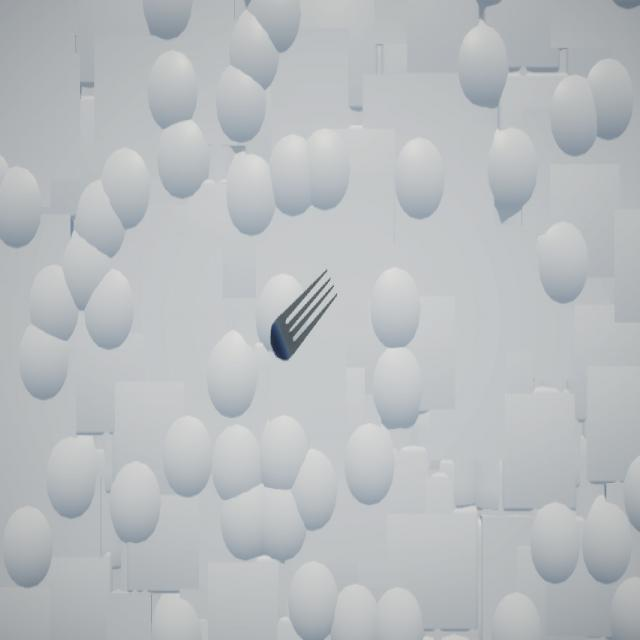top_folk: (271, 271, 339, 363)
